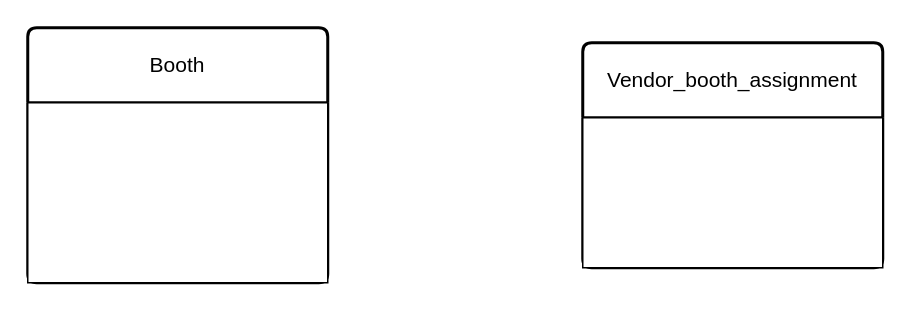
Some shapes in this 909 by 309 pixel diagram are drawn without their labels. The box of each missing label's shape, as (x1, y1, x2, y2) in pixels:
booth_number booth_price_level booth_description booth_type: (26, 101, 328, 283)
vendor_id booth_number market_date: (581, 116, 883, 268)
